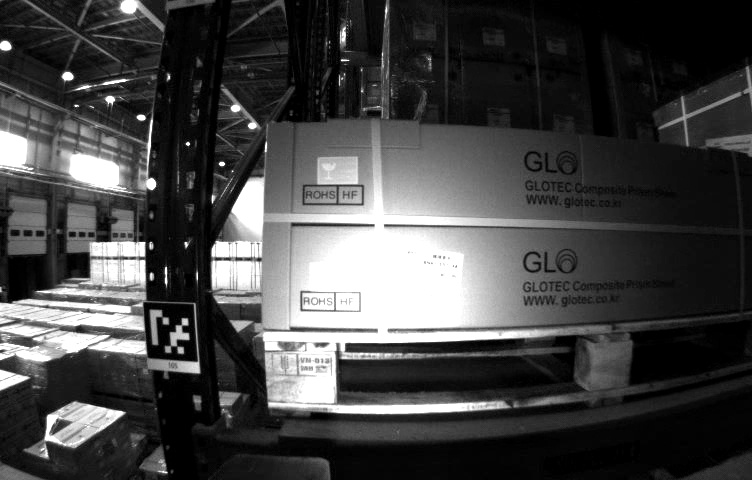True Barcode: (401, 246, 467, 303)
